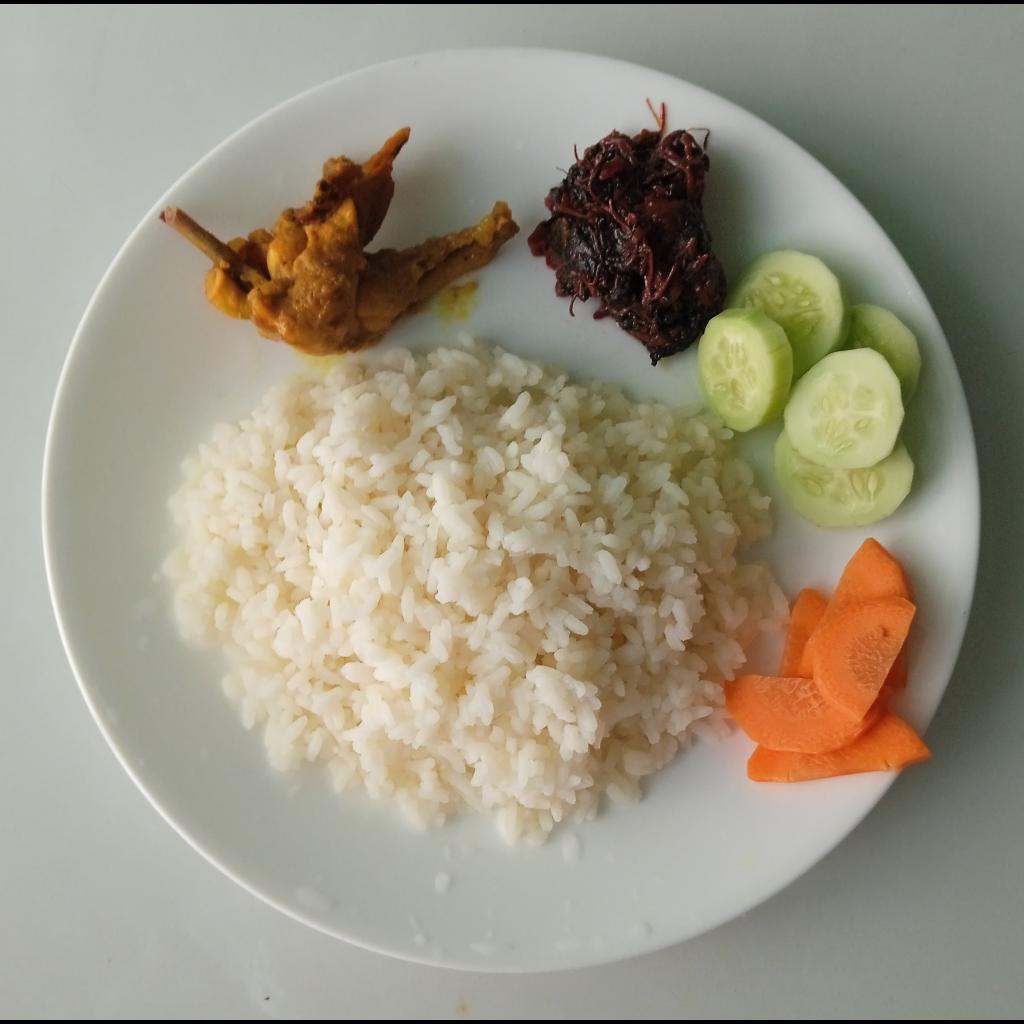carrot: (725, 534, 934, 783)
chicken: (159, 124, 525, 357)
cucumber: (696, 250, 924, 530)
lal-shak: (533, 127, 732, 364)
rice: (167, 340, 784, 849)
